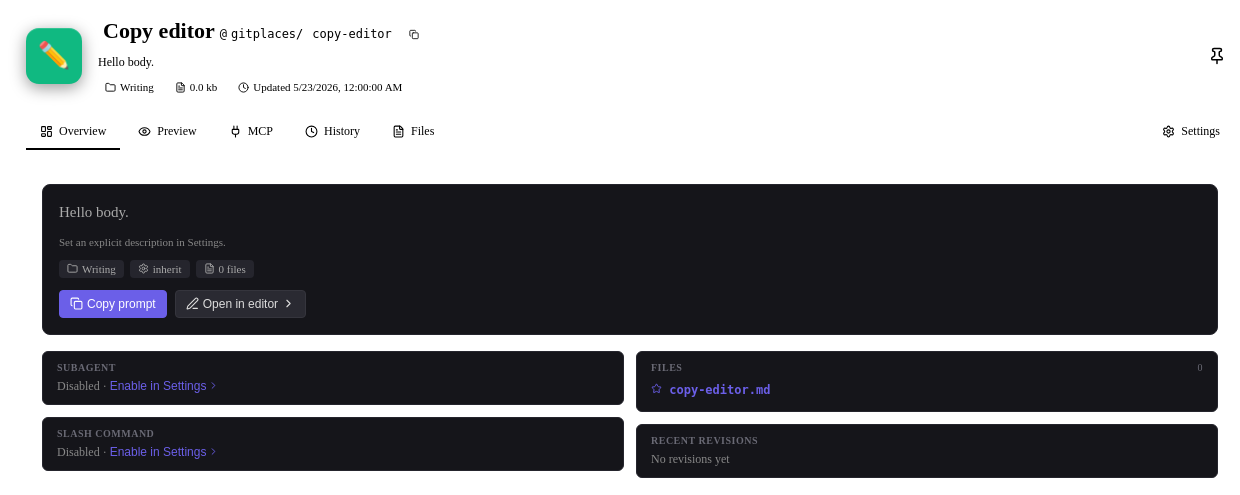
Scenario: AgentDetail › double-clicking the handle local part enters handle edit mode
Expected: the heading "Copy editor" is shown, [98,16,220,46]
Double-click the text "copy-editor" at {"x": 352, "y": 34}, box [307,25,397,43]
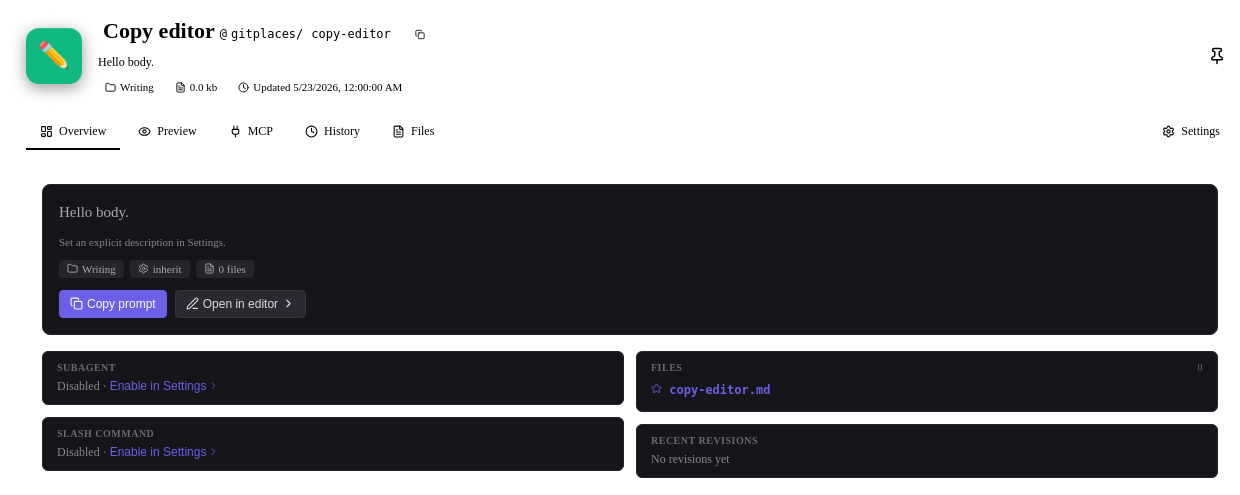
Expected: the field named "Handle" holds "copy-editor", [307,27,403,41]
